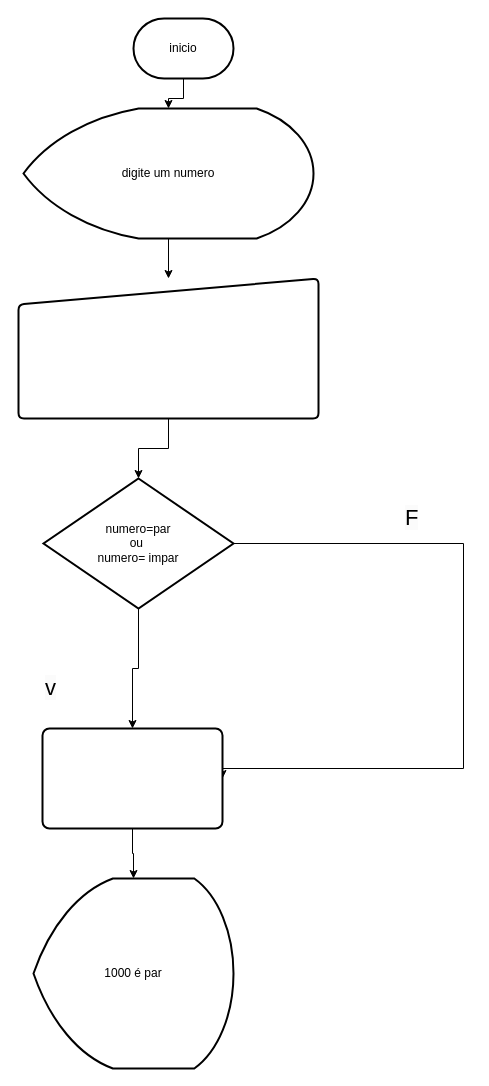
The diagram is 489 pixels wide and 1086 high, and some of its shapes have lost their labels. The shapes that lost their labels are listed below. From the top down, each one's centre as x and y in pixels, then its label:
point 168,348: numero
point 132,778: numero = 1000
